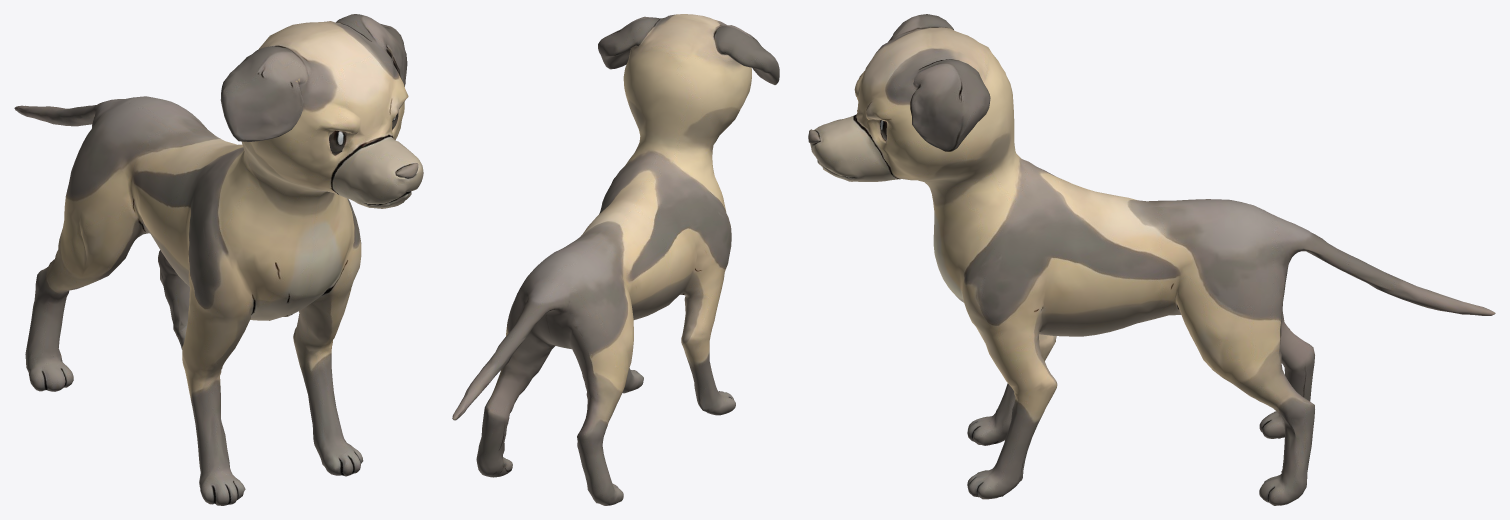
3 renders of one model, left to right at view 1: azimuth 30°, elevation 25°; view 2: azimuth 150°, elevation 25°; view 3: azimuth 270°, elevation 25°, orthographic. The views are drawn at different scales.
Parts seen in each view (by area): view 1: geometry_0; view 2: geometry_0; view 3: geometry_0.
Boxes of the visible parts, x1,y1,x2,y2 form: geometry_0: (14,14,423,505); geometry_0: (452,14,779,505); geometry_0: (808,14,1495,505).
Bounding box in the file's own units: 0.3047 × 0.6675 × 0.9536.
1 material, 1 textured.
